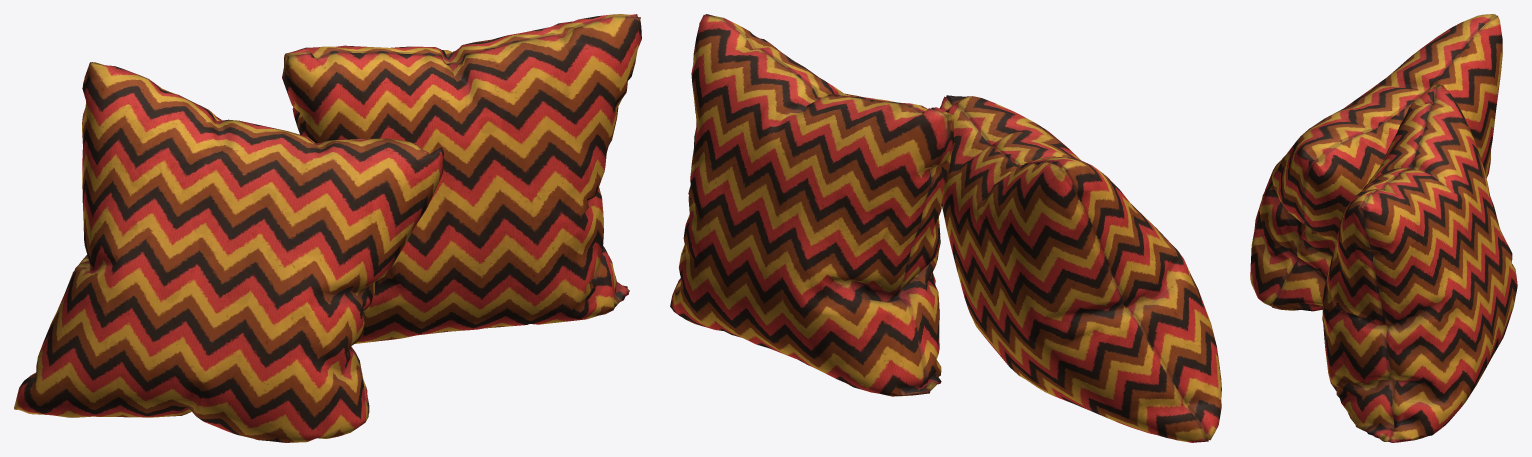
Rendered from throw_pillows_01.glb.
3 views of the same model, side by side, from view 1: azimuth 30°, elevation 25°; view 2: azimuth 150°, elevation 25°; view 3: azimuth 270°, elevation 25° (orthographic). The views are drawn at different scales.
Parts seen in each view (by area): view 1: throw_pillows_01_pillow01, throw_pillows_01_pillow02; view 2: throw_pillows_01_pillow02, throw_pillows_01_pillow01; view 3: throw_pillows_01_pillow02, throw_pillows_01_pillow01.
Boxes of the visible parts, box(x1,y1,x2,y2) form: throw_pillows_01_pillow01: box(14, 62, 443, 442); throw_pillows_01_pillow02: box(282, 14, 641, 343); throw_pillows_01_pillow02: box(670, 14, 953, 396); throw_pillows_01_pillow01: box(939, 95, 1221, 442); throw_pillows_01_pillow02: box(1322, 84, 1517, 442); throw_pillows_01_pillow01: box(1250, 14, 1502, 311).
Bounding box in the file's own units: 0.9401 × 0.4502 × 0.4519.
Materials: 1 (1 with a texture image).
